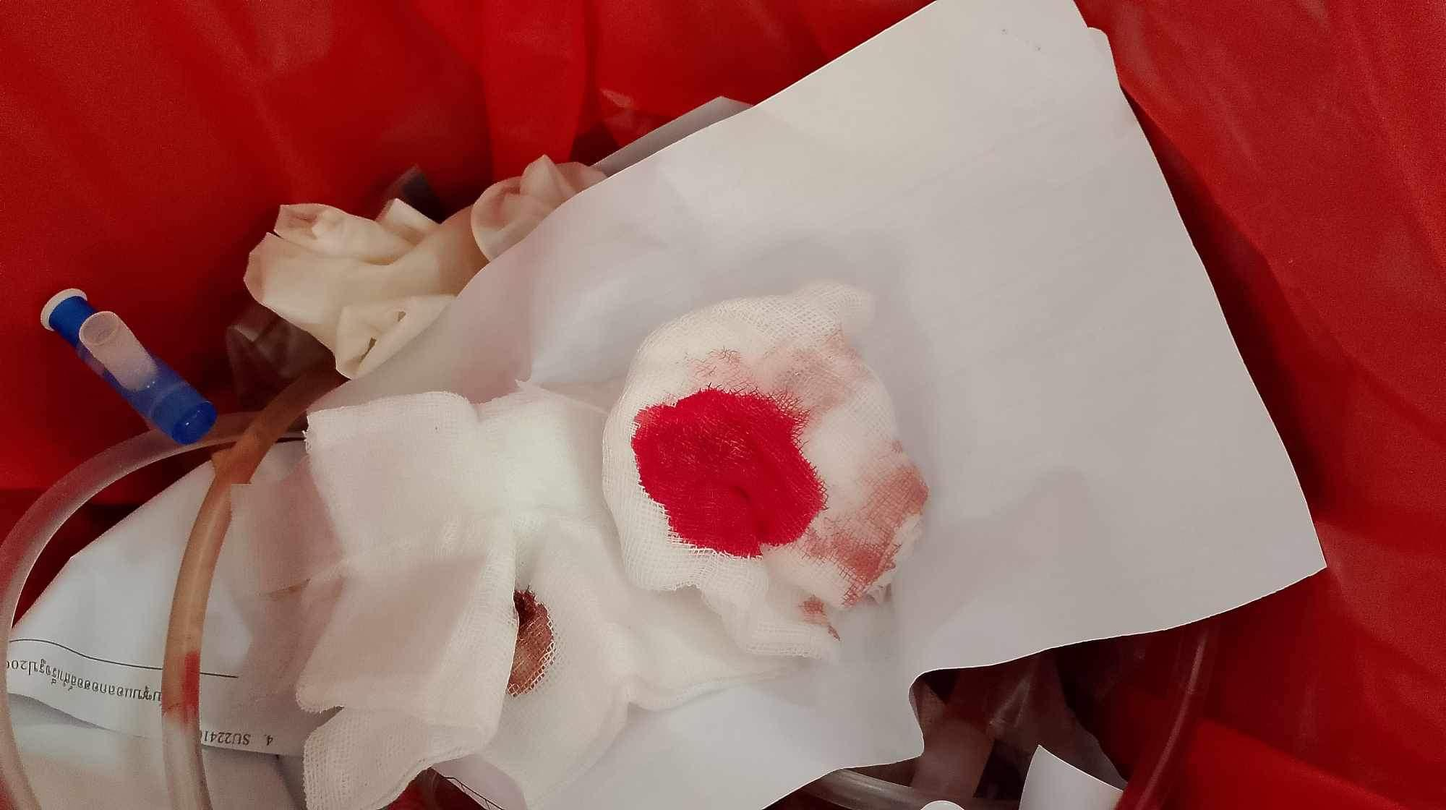Infectious: (598, 278, 929, 664)
Pathological: (6, 3, 1328, 806)
Sharps: (38, 286, 218, 447)
